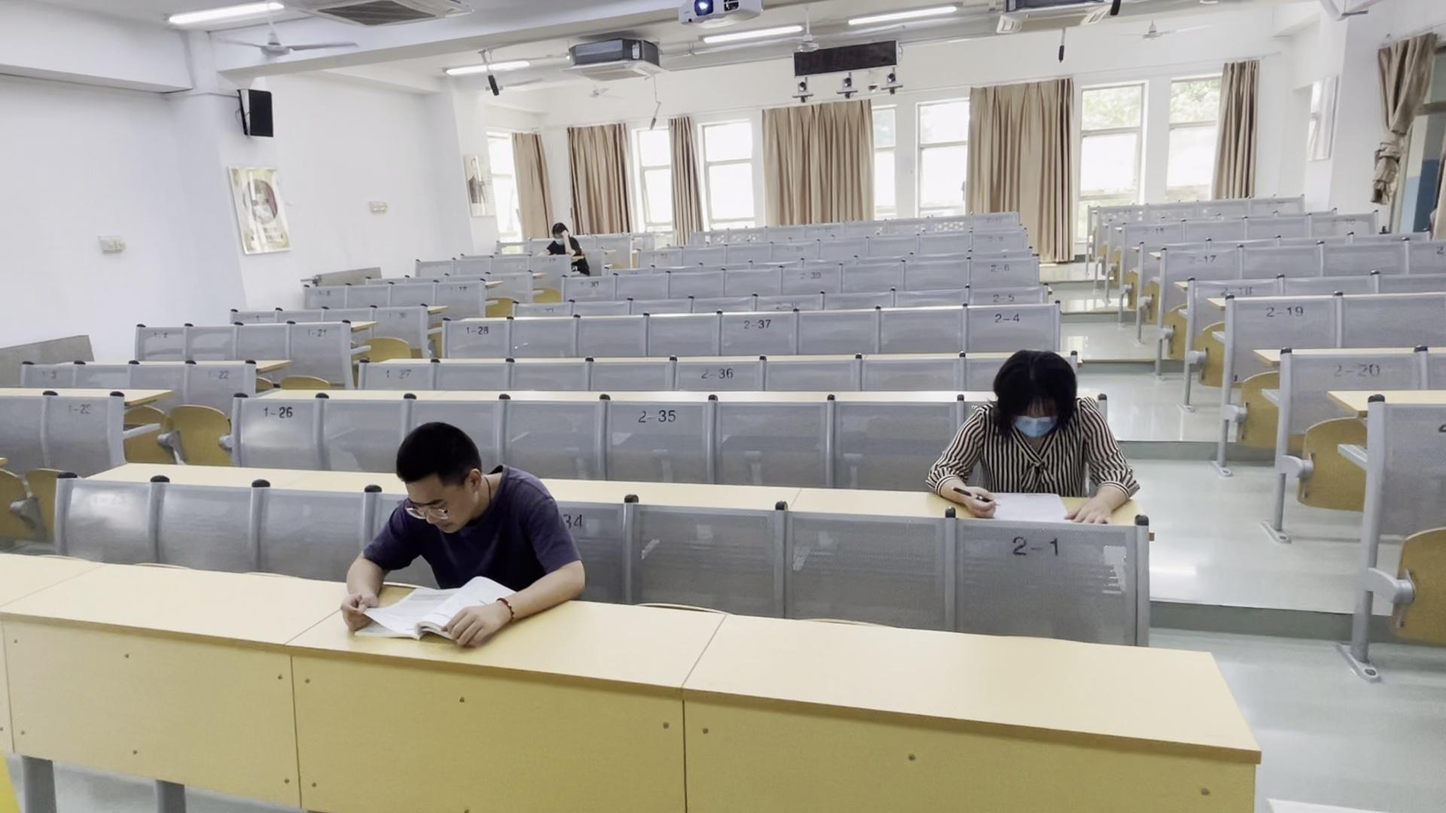study: (347, 432, 570, 650), (932, 355, 1138, 513), (550, 224, 576, 251)
